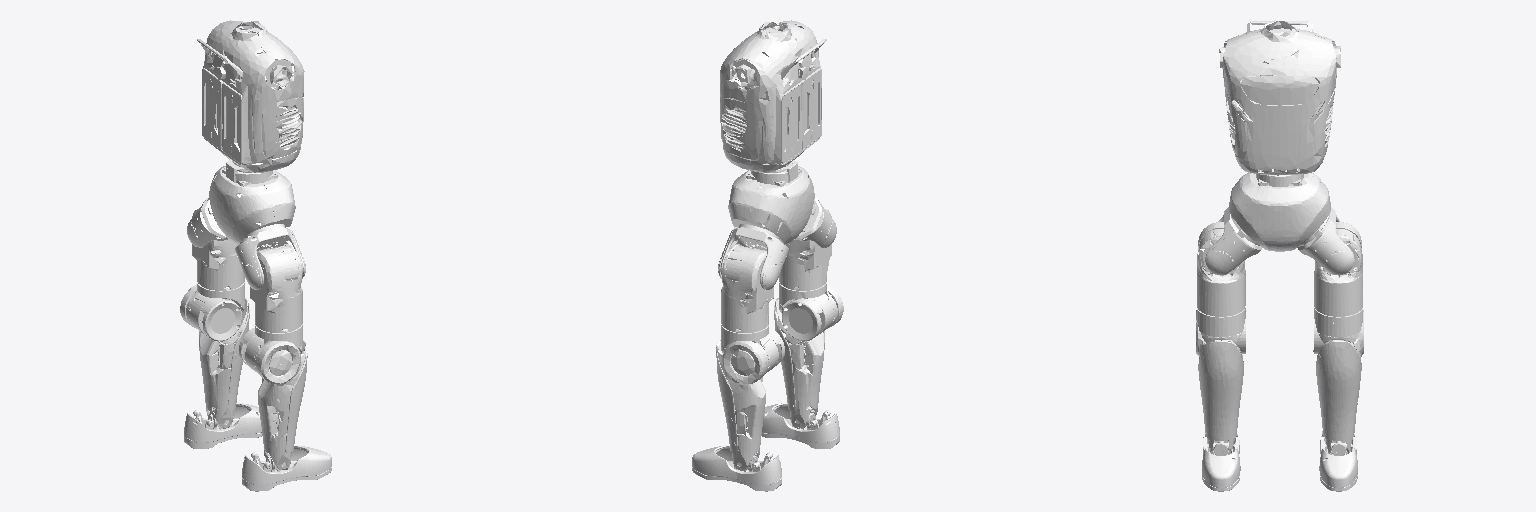
URDF robot description (biped_v3):
<?xml version="1.0" ?>
<!-- =================================================================================== -->
<!-- |    This document was autogenerated by xacro from [local-path]/workspace/kuavo-ros-control/src/humanoid-control/humanoid_interface_drake/models/biped_gen4.2/urdf/biped_v3.xacro | -->
<!-- |    EDITING THIS FILE BY HAND IS NOT RECOMMENDED                                 | -->
<!-- =================================================================================== -->
<robot name="biped_v3" xmlns:drake="https://drake.mit.edu">
  <link name="torso">
    <inertial>
      <origin xyz="0.00227055 0.0 0.1163574" rpy="0 0 0" />
      <mass value="11.23288758" />
      <inertia ixx="0.06356019" ixy="0.0" ixz="0.0" iyy="0.05314952" iyz="0.0" izz="0.03434989" />
    </inertial>
    <visual>
      <origin xyz="0 0 0" rpy="0 0 0" />
      <geometry>
        <mesh filename="../../meshes/torso.STL" />
      </geometry>
      <material name="">
        <color rgba="1 1 1 1" />
      </material>
    </visual>
  </link>
  <link name="waist">
    <inertial>
      <origin xyz="0.0016929 0.0 -0.11846153" rpy="0 0 0" />
      <mass value="3.17438719" />
      <inertia ixx="0.02255479" ixy="0.0" ixz="0.0" iyy="0.01532956" iyz="0.0" izz="0.0166717" />
    </inertial>
    <visual>
      <origin xyz="0 0 0" rpy="0 0 0" />
      <geometry>
        <mesh filename="../../meshes/waist.STL" />
      </geometry>
      <material name="">
        <color rgba="1 1 1 1" />
      </material>
    </visual>
  </link>
  <joint name="waist" type="fixed">
    <origin xyz="0 0 0" rpy="0 0 0" />
    <parent link="torso" />
    <child link="waist" />
    <axis xyz="0 0 1" />
    <limit lower="-2.0943951023932" upper="2.0943951023932" effort="50" velocity="8.37333333333333" />
  </joint>
  <link name="leg_l1_link">
    <inertial>
      <origin xyz="-0.01281625 -0.02411867 0.0242652" rpy="0 0 0" />
      <mass value="0.41179806" />
      <inertia ixx="0.00053434" ixy="-1.716e-05" ixz="1.637e-05" iyy="0.00095375" iyz="6.321e-05" izz="0.00095062" />
    </inertial>
    <visual>
      <origin xyz="0 0 0" rpy="0 0 0" />
      <geometry>
        <mesh filename="../../meshes/l_leg_pitch.STL" />
      </geometry>
      <material name="">
        <color rgba="1 1 1 1" />
      </material>
    </visual>
  </link>
  <joint name="leg_l1_joint" type="revolute">
    <origin xyz="0.0 0.1143350698 -0.21673502307" rpy="0 0 0" />
    <parent link="waist" />
    <child link="leg_l1_link" />
    <axis xyz="0 0.70711 -0.70711" />
    <limit lower="-1.65806278939461" upper="1.5707963267949" effort="180" velocity="23.55" />
  </joint>
  <transmission type="SimpleTransmission">
    <joint name="leg_l1_joint" />
    <actuator name="leg_l1_joint_motor" />
  </transmission>
  <link name="leg_l2_link">
    <inertial>
      <origin xyz="-0.00113407 0.00022674 -0.055039" rpy="0 0 0" />
      <mass value="2.60733021" />
      <inertia ixx="0.00748166" ixy="0.0" ixz="0.0" iyy="0.00726718" iyz="0.0" izz="0.00283326" />
    </inertial>
    <visual>
      <origin xyz="0 0 0" rpy="0 0 0" />
      <geometry>
        <mesh filename="../../meshes/l_leg_roll.STL" />
      </geometry>
      <material name="">
        <color rgba="1 1 1 1" />
      </material>
    </visual>
  </link>
  <joint name="leg_l2_joint" type="revolute">
    <origin xyz="0 0 0" rpy="0 0 0" />
    <parent link="leg_l1_link" />
    <child link="leg_l2_link" />
    <axis xyz="1 0 0" />
    <limit lower="-1.0471975511966" upper="0.847008285992848" effort="100" velocity="41.3433333333333" />
  </joint>
  <transmission type="SimpleTransmission">
    <joint name="leg_l2_joint" />
    <actuator name="leg_l2_joint_motor" />
  </transmission>
  <link name="leg_l3_link">
    <inertial>
      <origin xyz="-0.01486413 -0.00438159 -0.17562576" rpy="0 0 0" />
      <mass value="1.03798929" />
      <inertia ixx="0.00130665" ixy="0.0" ixz="0.0" iyy="0.00143771" iyz="0.0" izz="0.00092289" />
    </inertial>
    <visual>
      <origin xyz="0 0 0" rpy="0 0 0" />
      <geometry>
        <mesh filename="../../meshes/l_leg_yaw.STL" />
      </geometry>
      <material name="">
        <color rgba="1 1 1 1" />
      </material>
    </visual>
  </link>
  <joint name="leg_l3_joint" type="revolute">
    <origin xyz="0 0 0" rpy="0 0 0" />
    <parent link="leg_l2_link" />
    <child link="leg_l3_link" />
    <axis xyz="0 0 1" />
    <limit lower="-1.91986217719376" upper="0.878424212528746" effort="100" velocity="41.3433333333333" />
  </joint>
  <transmission type="SimpleTransmission">
    <joint name="leg_l3_joint" />
    <actuator name="leg_l3_joint_motor" />
  </transmission>
  <link name="leg_l4_link">
    <inertial>
      <origin xyz="0.02276414 0.00634133 -0.09717249" rpy="0 0 0" />
      <mass value="1.78407172" />
      <inertia ixx="0.00775509" ixy="0.0" ixz="0.0" iyy="0.00820174" iyz="0.0" izz="0.00156093" />
    </inertial>
    <visual>
      <origin xyz="0 0 0" rpy="0 0 0" />
      <geometry>
        <mesh filename="../../meshes/l_knee.STL" />
      </geometry>
      <material name="">
        <color rgba="1 1 1 1" />
      </material>
    </visual>
  </link>
  <joint name="leg_l4_joint" type="revolute">
    <origin xyz="-0.021 0 -0.182" rpy="0 0 0" />
    <parent link="leg_l3_link" />
    <child link="leg_l4_link" />
    <axis xyz="0 1 0" />
    <limit lower="0.0" upper="2.61799387799149" effort="180" velocity="23.55" />
  </joint>
  <transmission type="SimpleTransmission">
    <joint name="leg_l4_joint" />
    <actuator name="leg_l4_joint_motor" />
  </transmission>
  <link name="leg_l5_link">
    <inertial>
      <origin xyz="0.0 0.0 0.0" rpy="0 0 0" />
      <mass value="0.06923766" />
      <inertia ixx="6.7e-05" ixy="0.0" ixz="0.0" iyy="6.7e-05" iyz="0.0" izz="1.172e-05" />
    </inertial>
    <visual>
      <origin xyz="0 0 0" rpy="0 0 0" />
      <geometry>
        <mesh filename="../../meshes/l_foot_pitch.STL" />
      </geometry>
      <material name="">
        <color rgba="1 1 1 1" />
      </material>
    </visual>
  </link>
  <joint name="leg_l5_joint" type="revolute">
    <origin xyz="0.021 0 -0.235" rpy="0 0 0" />
    <parent link="leg_l4_link" />
    <child link="leg_l5_link" />
    <axis xyz="0 1 0" />
    <limit lower="-0.872664625997165" upper="0.523598775598299" effort="36" velocity="23.0266666666667" />
  </joint>
  <transmission type="SimpleTransmission">
    <joint name="leg_l5_joint" />
    <actuator name="leg_l5_joint_motor" />
  </transmission>
  <link name="leg_l6_link">
    <inertial>
      <origin xyz="-0.00076721 2.797e-05 -0.02337788" rpy="0 0 0" />
      <mass value="0.38565431" />
      <inertia ixx="0.00026927" ixy="0.0" ixz="0.0" iyy="0.00114572" iyz="0.0" izz="0.00129886" />
    </inertial>
    <visual>
      <origin xyz="0 0 0" rpy="0 0 0" />
      <geometry>
        <mesh filename="../../meshes/l_foot_roll.STL" />
      </geometry>
      <material name="">
        <color rgba="1 1 1 1" />
      </material>
    </visual>
  </link>
  <joint name="leg_l6_joint" type="revolute">
    <origin xyz="0 0 0" rpy="0 0 0" />
    <parent link="leg_l5_link" />
    <child link="leg_l6_link" />
    <axis xyz="1 0 0" />
    <limit lower="-0.261799387799149" upper="0.261799387799149" effort="36" velocity="23.0266666666667" />
  </joint>
  <transmission type="SimpleTransmission">
    <joint name="leg_l6_joint" />
    <actuator name="leg_l6_joint_motor" />
  </transmission>
  <frame link="leg_l6_link" name="l_foot_sole" xyz="0.0 0.0 -0.0435" />
  <frame link="leg_l6_link" name="l_foot_toe" xyz="0.126 0.0 -0.0435" />
  <frame link="leg_l6_link" name="l_foot_heel" xyz="-0.089 0.0 -0.0435" />
  <link name="leg_r1_link">
    <inertial>
      <origin xyz="-0.01281237 0.02411826 0.02426469" rpy="0 0 0" />
      <mass value="0.4119068" />
      <inertia ixx="0.00053445" ixy="1.725e-05" ixz="1.639e-05" iyy="0.00095388" iyz="-6.324e-05" izz="0.00095076" />
    </inertial>
    <visual>
      <origin xyz="0 0 0" rpy="0 0 0" />
      <geometry>
        <mesh filename="../../meshes/r_leg_pitch.STL" />
      </geometry>
      <material name="">
        <color rgba="1 1 1 1" />
      </material>
    </visual>
  </link>
  <joint name="leg_r1_joint" type="revolute">
    <origin xyz="0.0 -0.1143350698 -0.21673502307" rpy="0 0 0" />
    <parent link="waist" />
    <child link="leg_r1_link" />
    <axis xyz="0 -0.70711 -0.70711" />
    <limit lower="-1.65806278939461" upper="1.5707963267949" effort="180" velocity="23.55" />
  </joint>
  <transmission type="SimpleTransmission">
    <joint name="leg_r1_joint" />
    <actuator name="leg_r1_joint_motor" />
  </transmission>
  <link name="leg_r2_link">
    <inertial>
      <origin xyz="-0.00091249 -5.402e-05 -0.0552687" rpy="0 0 0" />
      <mass value="2.60770806" />
      <inertia ixx="0.00748166" ixy="0.0" ixz="0.0" iyy="0.00726718" iyz="0.0" izz="0.00283326" />
    </inertial>
    <visual>
      <origin xyz="0 0 0" rpy="0 0 0" />
      <geometry>
        <mesh filename="../../meshes/r_leg_roll.STL" />
      </geometry>
      <material name="">
        <color rgba="1 1 1 1" />
      </material>
    </visual>
  </link>
  <joint name="leg_r2_joint" type="revolute">
    <origin xyz="0 0 0" rpy="0 0 0" />
    <parent link="leg_r1_link" />
    <child link="leg_r2_link" />
    <axis xyz="1 0 0" />
    <limit lower="-1.0471975511966" upper="0.847008285992848" effort="100" velocity="41.3433333333333" />
  </joint>
  <transmission type="SimpleTransmission">
    <joint name="leg_r2_joint" />
    <actuator name="leg_r2_joint_motor" />
  </transmission>
  <link name="leg_r3_link">
    <inertial>
      <origin xyz="-0.0150602 0.00499577 -0.17454657" rpy="0 0 0" />
      <mass value="1.03798252" />
      <inertia ixx="0.00130665" ixy="0.0" ixz="0.0" iyy="0.00143771" iyz="0.0" izz="0.00092289" />
    </inertial>
    <visual>
      <origin xyz="0 0 0" rpy="0 0 0" />
      <geometry>
        <mesh filename="../../meshes/r_leg_yaw.STL" />
      </geometry>
      <material name="">
        <color rgba="1 1 1 1" />
      </material>
    </visual>
  </link>
  <joint name="leg_r3_joint" type="revolute">
    <origin xyz="0 0 0" rpy="0 0 0" />
    <parent link="leg_r2_link" />
    <child link="leg_r3_link" />
    <axis xyz="0 0 1" />
    <limit lower="-1.91986217719376" upper="0.878424212528746" effort="100" velocity="41.3433333333333" />
  </joint>
  <transmission type="SimpleTransmission">
    <joint name="leg_r3_joint" />
    <actuator name="leg_r3_joint_motor" />
  </transmission>
  <link name="leg_r4_link">
    <inertial>
      <origin xyz="0.02271993 -0.0079271 -0.09808788" rpy="0 0 0" />
      <mass value="1.78444026" />
      <inertia ixx="0.00775509" ixy="0.0" ixz="0.0" iyy="0.00820174" iyz="0.0" izz="0.00156093" />
    </inertial>
    <visual>
      <origin xyz="0 0 0" rpy="0 0 0" />
      <geometry>
        <mesh filename="../../meshes/r_knee.STL" />
      </geometry>
      <material name="">
        <color rgba="1 1 1 1" />
      </material>
    </visual>
  </link>
  <joint name="leg_r4_joint" type="revolute">
    <origin xyz="-0.021 0 -0.182" rpy="0 0 0" />
    <parent link="leg_r3_link" />
    <child link="leg_r4_link" />
    <axis xyz="0 1 0" />
    <limit lower="0.0" upper="2.61799387799149" effort="180" velocity="23.55" />
  </joint>
  <transmission type="SimpleTransmission">
    <joint name="leg_r4_joint" />
    <actuator name="leg_r4_joint_motor" />
  </transmission>
  <link name="leg_r5_link">
    <inertial>
      <origin xyz="0.0 0.0 0.0" rpy="0 0 0" />
      <mass value="0.06923766" />
      <inertia ixx="6.7e-05" ixy="0.0" ixz="0.0" iyy="6.7e-05" iyz="0.0" izz="1.172e-05" />
    </inertial>
    <visual>
      <origin xyz="0 0 0" rpy="0 0 0" />
      <geometry>
        <mesh filename="../../meshes/r_foot_pitch.STL" />
      </geometry>
      <material name="">
        <color rgba="1 1 1 1" />
      </material>
    </visual>
  </link>
  <joint name="leg_r5_joint" type="revolute">
    <origin xyz="0.021 0 -0.235" rpy="0 0 0" />
    <parent link="leg_r4_link" />
    <child link="leg_r5_link" />
    <axis xyz="0 1 0" />
    <limit lower="-0.872664625997165" upper="0.523598775598299" effort="36" velocity="23.0266666666667" />
  </joint>
  <transmission type="SimpleTransmission">
    <joint name="leg_r5_joint" />
    <actuator name="leg_r5_joint_motor" />
  </transmission>
  <link name="leg_r6_link">
    <inertial>
      <origin xyz="-0.00075494 -2.665e-05 -0.02339266" rpy="0 0 0" />
      <mass value="0.38537958" />
      <inertia ixx="0.00026927" ixy="0.0" ixz="0.0" iyy="0.00114572" iyz="0.0" izz="0.00129886" />
    </inertial>
    <visual>
      <origin xyz="0 0 0" rpy="0 0 0" />
      <geometry>
        <mesh filename="../../meshes/r_foot_roll.STL" />
      </geometry>
      <material name="">
        <color rgba="1 1 1 1" />
      </material>
    </visual>
  </link>
  <joint name="leg_r6_joint" type="revolute">
    <origin xyz="0 0 0" rpy="0 0 0" />
    <parent link="leg_r5_link" />
    <child link="leg_r6_link" />
    <axis xyz="1 0 0" />
    <limit lower="-0.261799387799149" upper="0.261799387799149" effort="36" velocity="23.0266666666667" />
  </joint>
  <transmission type="SimpleTransmission">
    <joint name="leg_r6_joint" />
    <actuator name="leg_r6_joint_motor" />
  </transmission>
  <frame link="leg_r6_link" name="r_foot_sole" xyz="0.0 0.0 -0.0435" />
  <frame link="leg_r6_link" name="r_foot_toe" xyz="0.126 0.0 -0.0435" />
  <frame link="leg_r6_link" name="r_foot_heel" xyz="-0.089 0.0 -0.0435" />
</robot>

--- What the picture shows (computed from the rendered views, not written in the file) ---
3 views of the same robot in one strip: view 1: azimuth 30°, elevation 25°; view 2: azimuth 150°, elevation 25°; view 3: azimuth 270°, elevation 25° (orthographic).
Model biped_v3 with 14 links and 13 joints (12 revolute, 1 fixed), rooted at torso, posed every joint at zero.
Links seen in each view (by area): view 1: torso, waist, leg_r4_link, leg_r2_link, leg_l4_link, leg_r6_link, leg_l3_link, leg_l6_link, leg_l2_link, leg_r1_link, leg_r3_link, leg_l1_link; view 2: torso, waist, leg_l4_link, leg_l2_link, leg_r4_link, leg_l6_link, leg_r3_link, leg_r6_link, leg_r2_link, leg_l1_link, leg_l3_link, leg_r1_link; view 3: torso, waist, leg_r4_link, leg_l4_link, leg_r2_link, leg_l2_link, leg_l1_link, leg_r1_link, leg_r6_link, leg_l6_link, leg_l3_link, leg_r3_link.
Boxes of the visible links, bbox=[...] form: torso: bbox=[197, 20, 304, 172]; waist: bbox=[207, 160, 295, 244]; leg_r4_link: bbox=[257, 340, 307, 469]; leg_r2_link: bbox=[250, 244, 302, 332]; leg_l4_link: bbox=[180, 284, 249, 428]; leg_r6_link: bbox=[242, 445, 331, 491]; leg_l3_link: bbox=[186, 282, 244, 340]; leg_l6_link: bbox=[184, 403, 261, 448]; leg_l2_link: bbox=[192, 209, 244, 290]; leg_r1_link: bbox=[235, 227, 305, 289]; leg_r3_link: bbox=[239, 324, 302, 373]; leg_l1_link: bbox=[187, 198, 227, 247]; torso: bbox=[720, 20, 826, 172]; waist: bbox=[728, 160, 814, 244]; leg_l4_link: bbox=[716, 340, 766, 470]; leg_l2_link: bbox=[721, 244, 773, 332]; leg_r4_link: bbox=[774, 285, 843, 428]; leg_l6_link: bbox=[692, 445, 781, 491]; leg_r3_link: bbox=[779, 282, 837, 341]; leg_r6_link: bbox=[762, 403, 839, 448]; leg_r2_link: bbox=[779, 209, 831, 290]; leg_l1_link: bbox=[718, 227, 788, 289]; leg_l3_link: bbox=[721, 324, 784, 374]; leg_r1_link: bbox=[796, 198, 836, 247]; torso: bbox=[1219, 21, 1340, 174]; waist: bbox=[1229, 172, 1330, 251]; leg_r4_link: bbox=[1196, 310, 1243, 453]; leg_l4_link: bbox=[1316, 310, 1363, 454]; leg_r2_link: bbox=[1197, 222, 1245, 322]; leg_l2_link: bbox=[1314, 222, 1362, 322]; leg_l1_link: bbox=[1297, 207, 1354, 274]; leg_r1_link: bbox=[1205, 207, 1261, 274]; leg_r6_link: bbox=[1202, 431, 1240, 491]; leg_l6_link: bbox=[1319, 431, 1357, 491]; leg_l3_link: bbox=[1313, 307, 1362, 353]; leg_r3_link: bbox=[1197, 307, 1246, 353].
Size in the robot's own frame: 0.206 by 0.3282 by 0.9456 metres.
14 mesh visuals loaded from 14 distinct referenced files (14 binary STL).